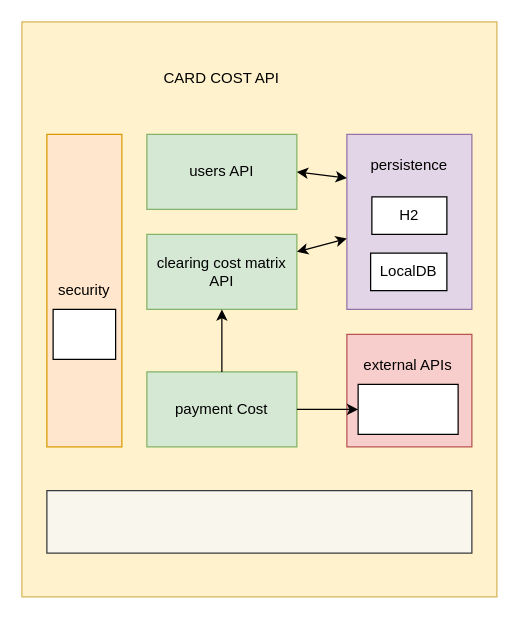
The diagram is 519 pixels wide and 619 high, and some of its shapes have lost their labels. Here are the shapes that lost their labels. From the top down, the centre of each, then its label:
(x=84, y=333): JWT
(x=407, y=408): binlist API
(x=259, y=521): config
